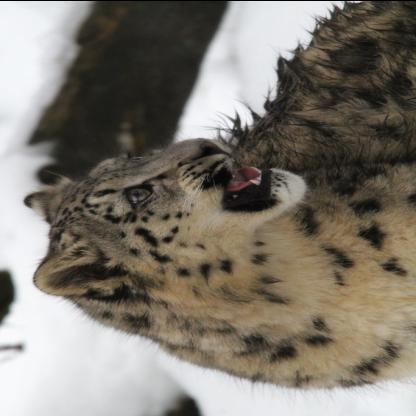leopard: (16, 134, 312, 298)
